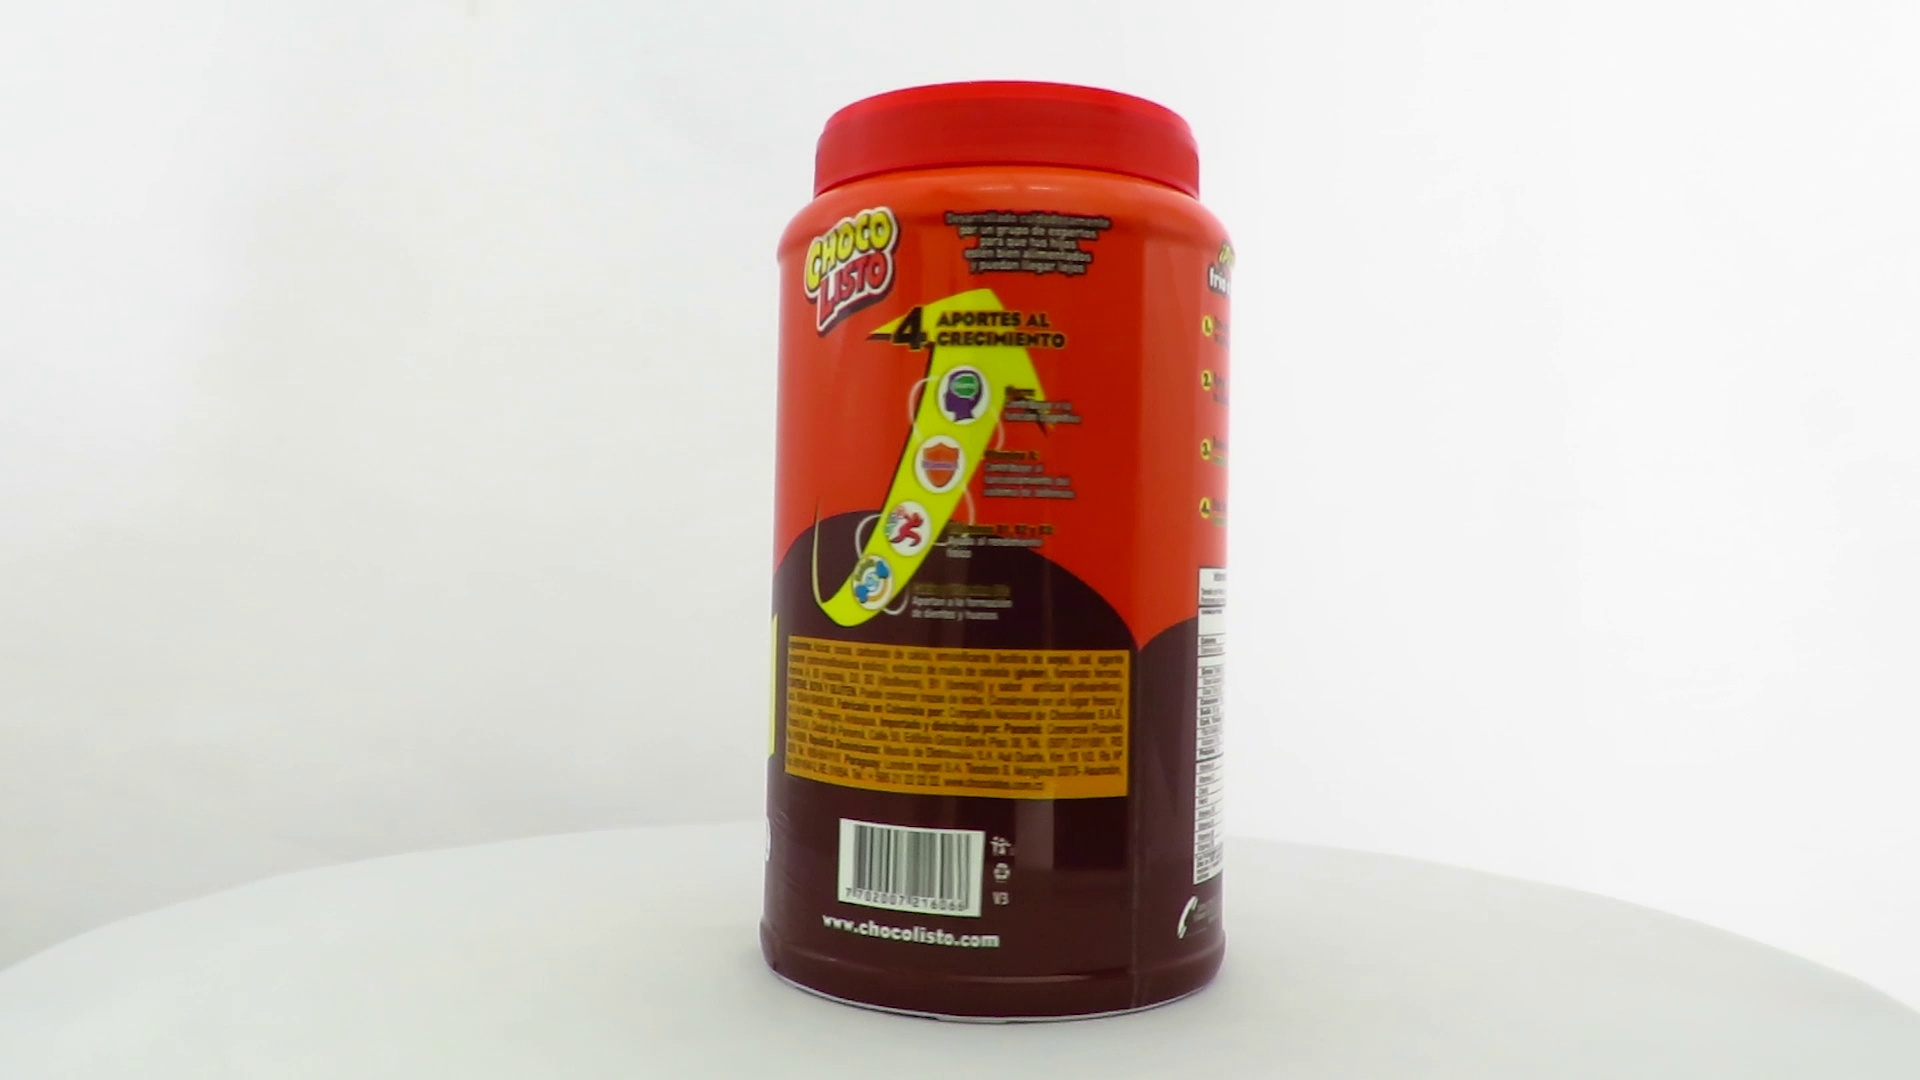COL0170103TRR00100: (754, 75, 1238, 1033)
